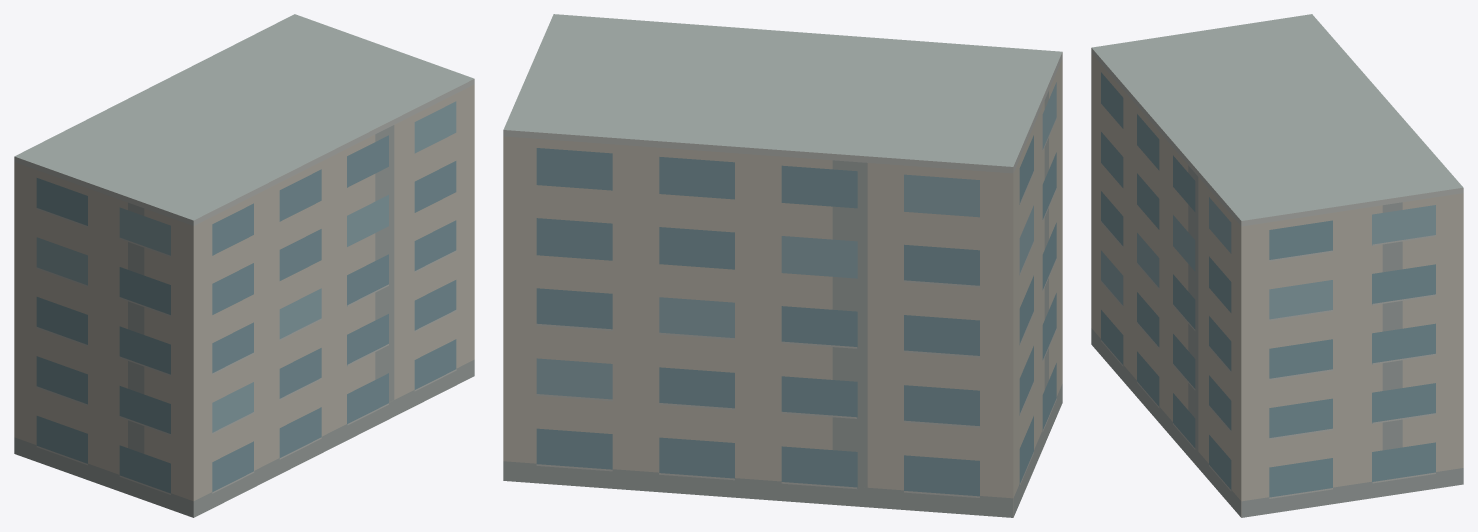
The model's file is survey-upis-32975487.glb.
The picture shows the model from 3 angles, left to right: view 1: azimuth 30°, elevation 25°; view 2: azimuth 150°, elevation 25°; view 3: azimuth 270°, elevation 25°; orthographic projection. The views are drawn at different scales.
Visible parts, largest first — view 1: survey-upis-32975487.tmp; view 2: survey-upis-32975487.tmp; view 3: survey-upis-32975487.tmp.
Part boxes in pixels (x1,y1,x2,y2): survey-upis-32975487.tmp: (14, 14, 474, 517); survey-upis-32975487.tmp: (503, 14, 1062, 517); survey-upis-32975487.tmp: (1091, 14, 1463, 517).
Size of the model in its own units: 19.75 by 13.2 by 15.01.
